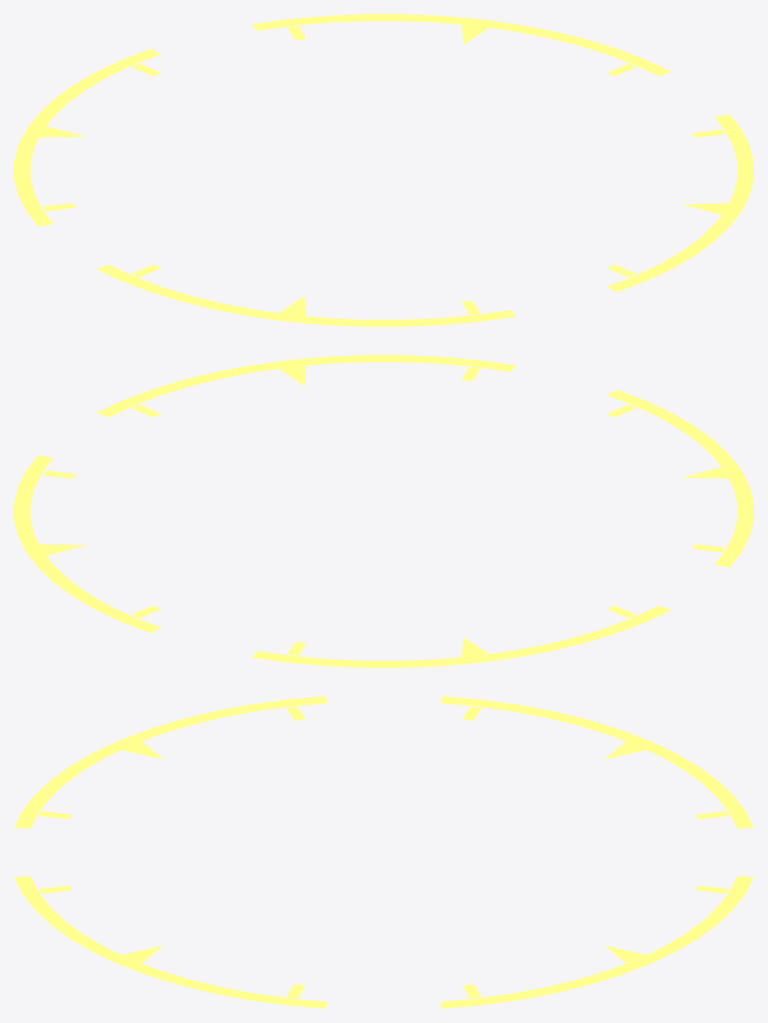
Rendered from ground_sigil.glb.
The picture shows the model from 3 angles, top to bottom: view 1: azimuth 30°, elevation 25°; view 2: azimuth 150°, elevation 25°; view 3: azimuth 270°, elevation 25°; orthographic projection.
Visible parts, largest first — view 1: ground_sigil; view 2: ground_sigil; view 3: ground_sigil.
Part boxes in pixels (box(x1,y1,x2,y2)): ground_sigil: box(14, 14, 753, 326); ground_sigil: box(14, 355, 753, 667); ground_sigil: box(14, 696, 753, 1008).
Size of the model in its own units: 1.98 by 0 by 1.98.
